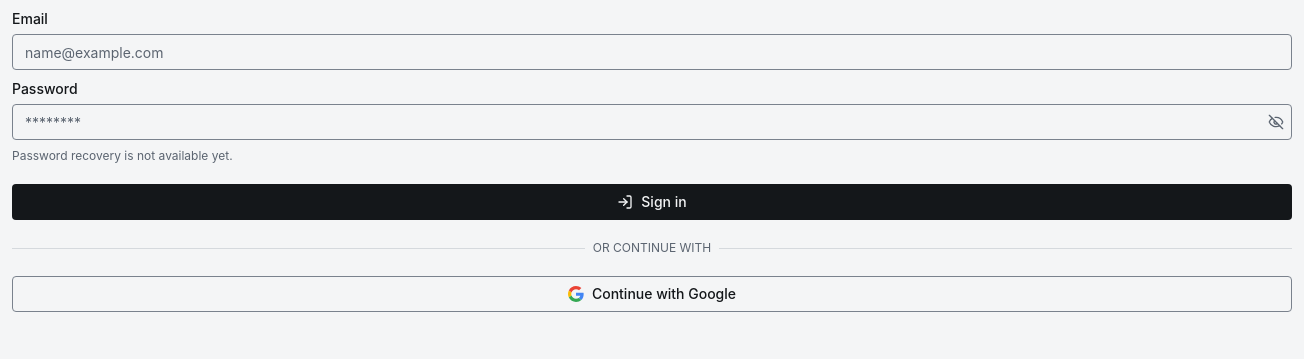
Scenario: email and Google sign-in › keeps Google configuration errors inline without navigating
Click the button "Continue with Google": (652, 294) x1=12 y1=276 x2=1292 y2=312
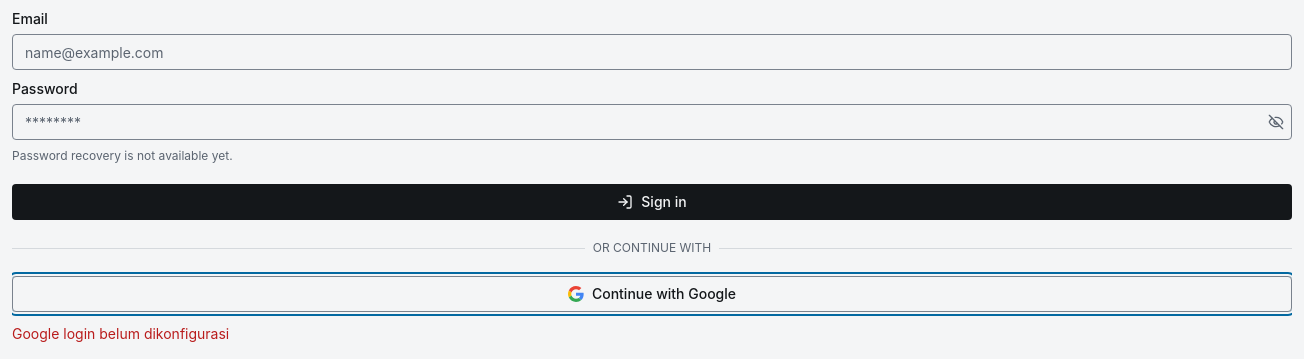
Now the message reads "Google login belum dikonfigurasi", box x1=12 y1=325 x2=229 y2=342
